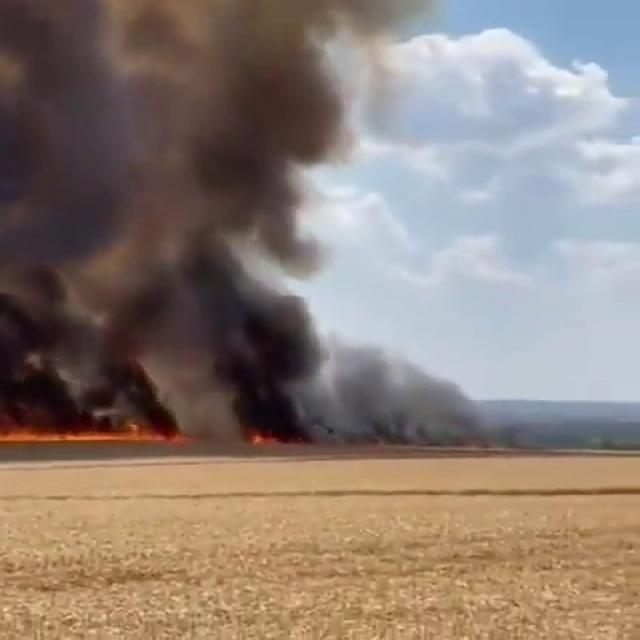Fire: (0, 428, 192, 448)
